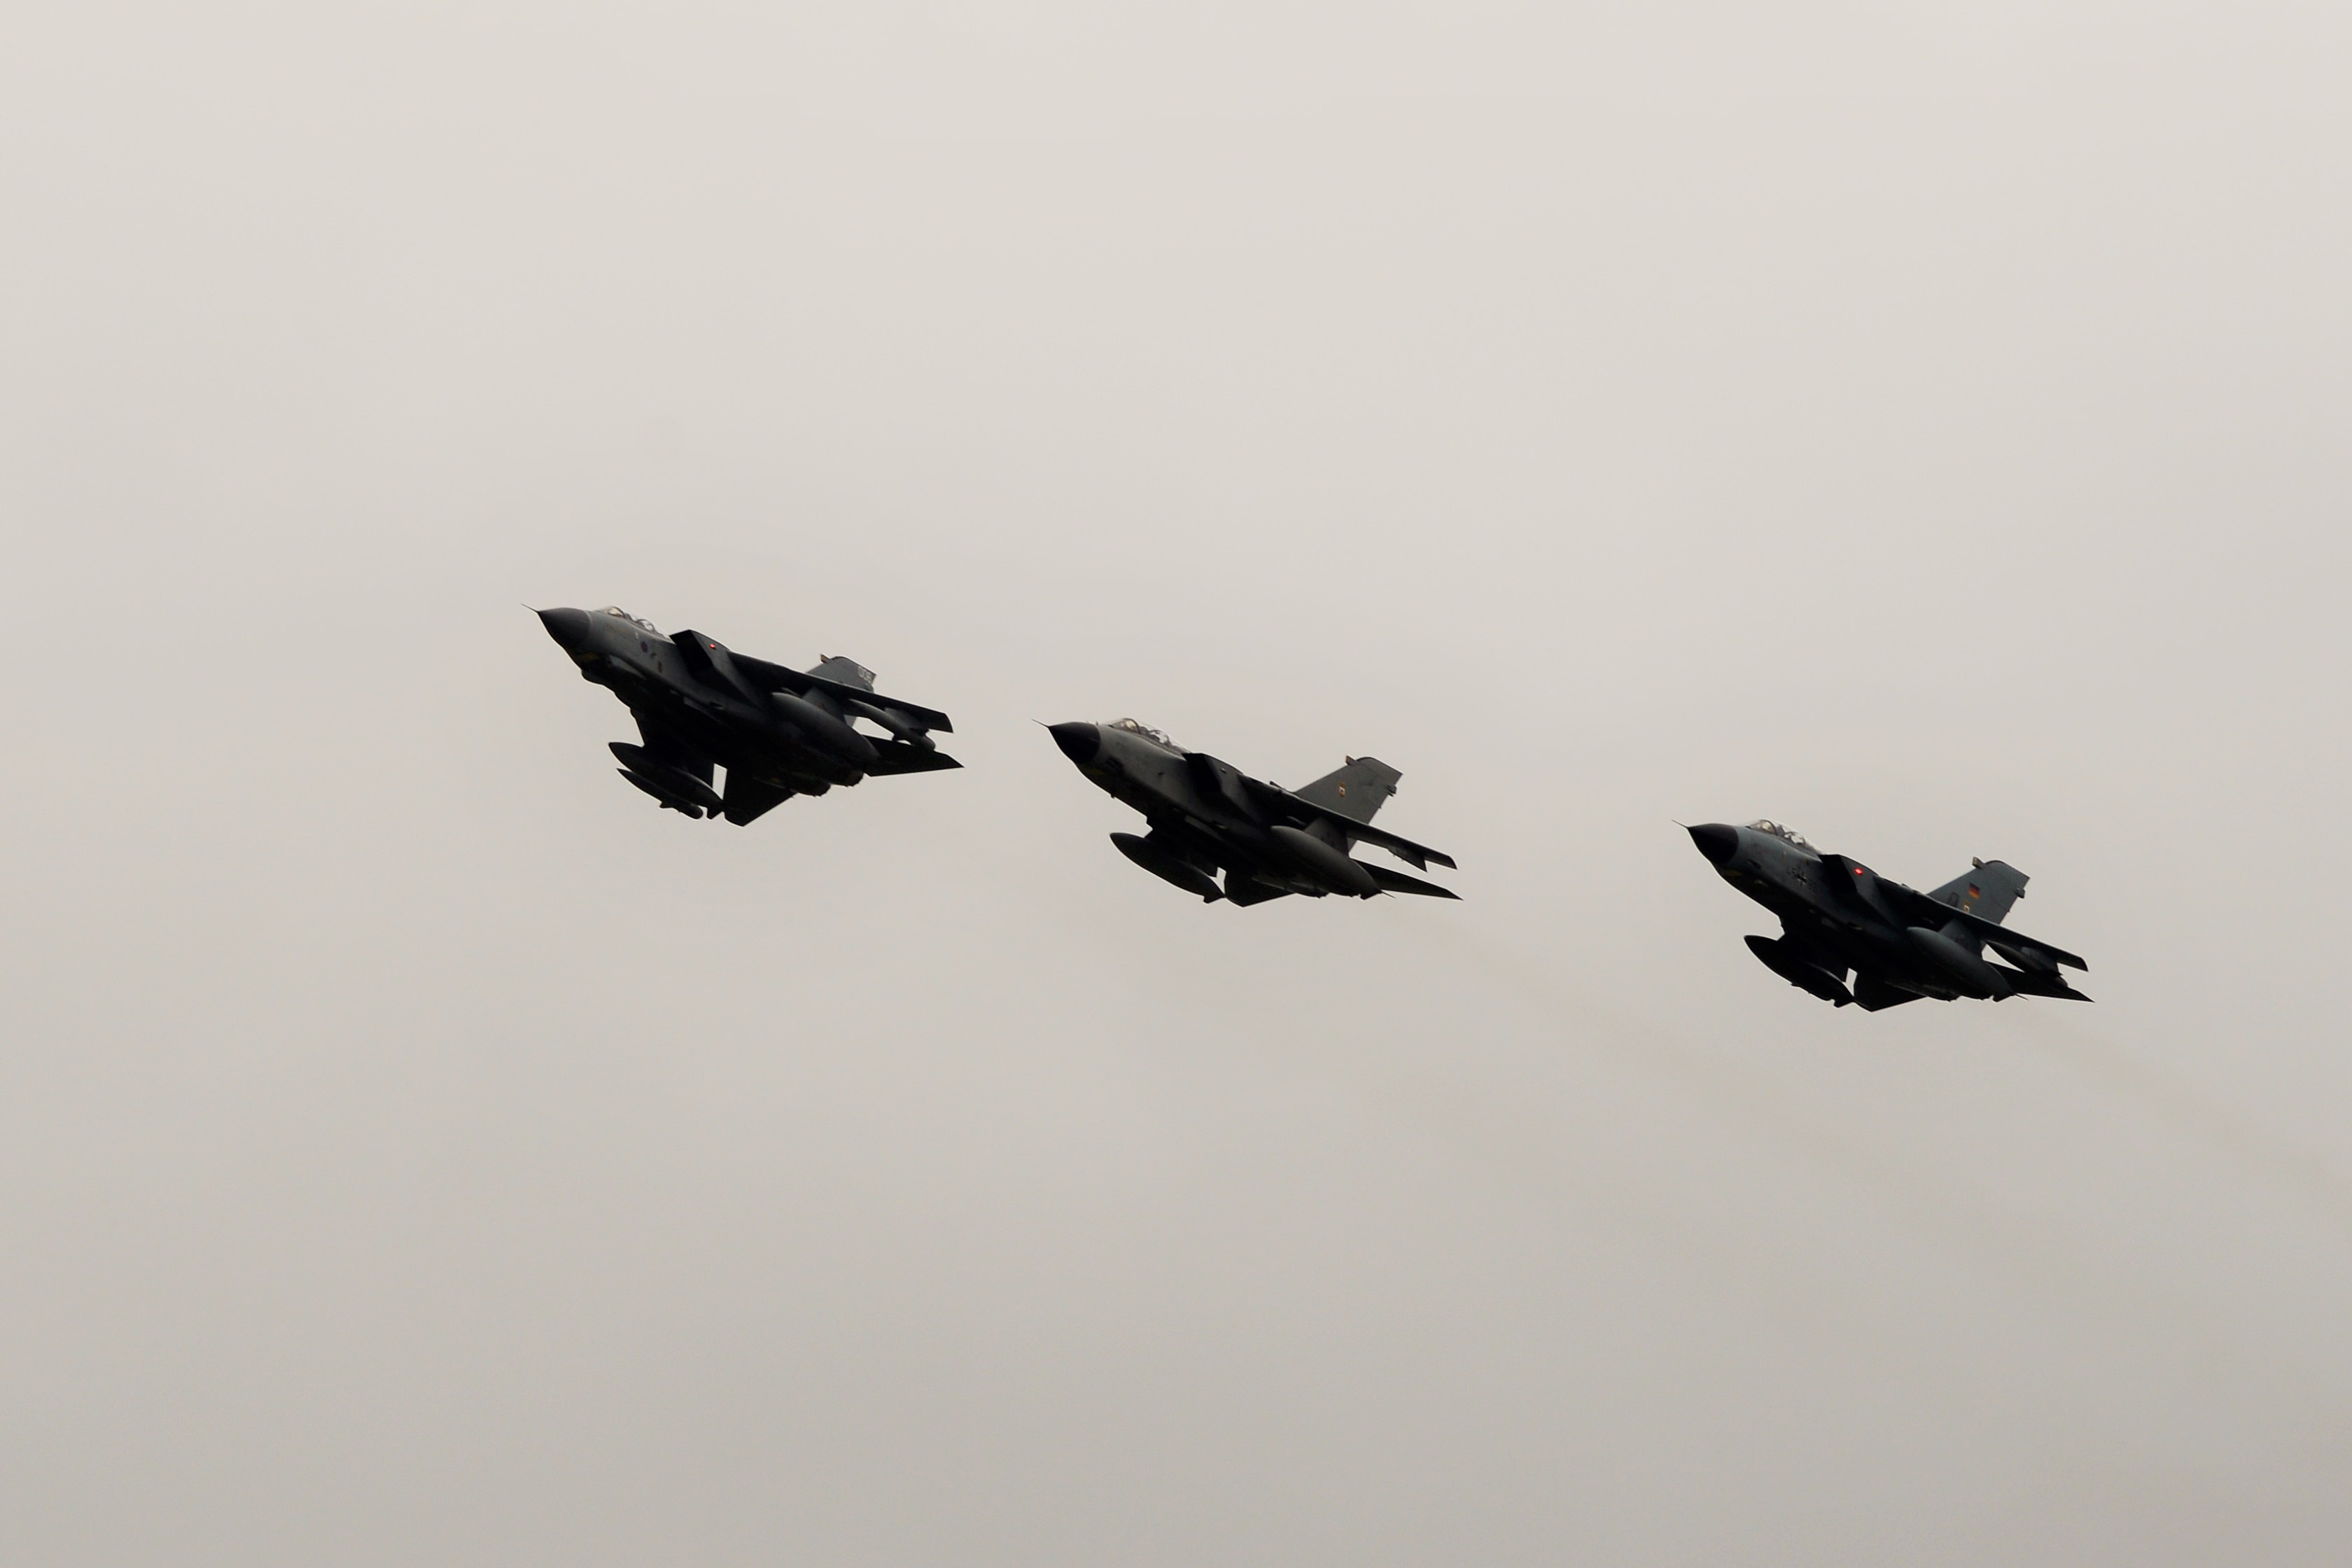Tornado: (520, 602, 964, 828), (1669, 817, 2096, 1013), (1029, 716, 1463, 908)
